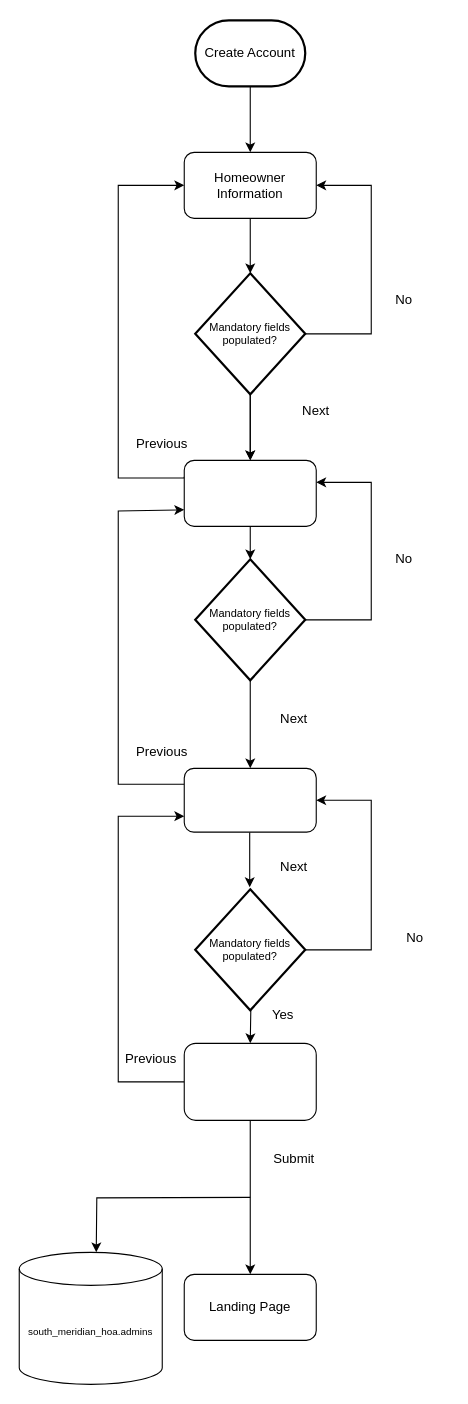
Some shapes in this 468 by 1404 pixel diagram are drawn without their labels. The shapes that lost their labels are listed below. From the top down, each one's centre as x and y in pixels, then its label:
(x=249, y=492): Address + Pin
(x=249, y=799): account setup
(x=249, y=1081): review details
